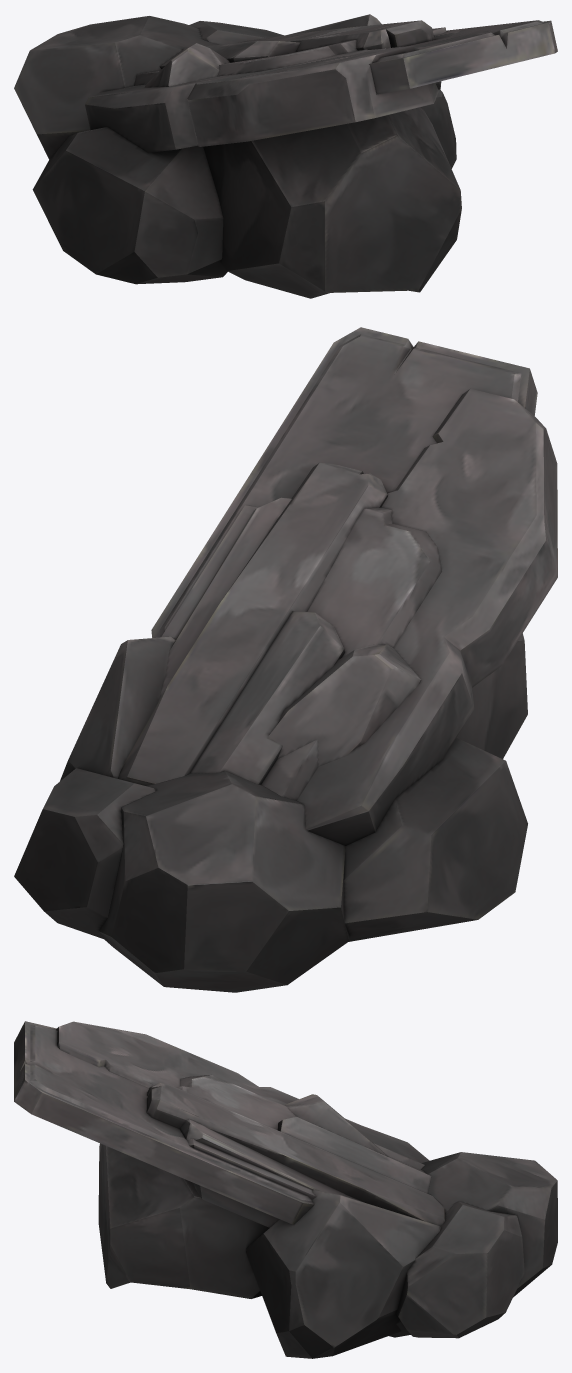
The model's file is SM_Rock_large.02.fbx.
3 views of the same model, one above another, from view 1: azimuth 30°, elevation 25°; view 2: azimuth 150°, elevation 25°; view 3: azimuth 270°, elevation 25° (orthographic). The views are drawn at different scales.
Parts seen in each view (by area): view 1: SM_Rock_Large.02; view 2: SM_Rock_Large.02; view 3: SM_Rock_Large.02.
Boxes of the visible parts, x1,y1,x2,y2 form: SM_Rock_Large.02: [14, 14, 557, 298]; SM_Rock_Large.02: [14, 327, 557, 992]; SM_Rock_Large.02: [14, 1021, 557, 1358].
Bounding box in the file's own units: 10.1 × 8.93 × 15.49.
